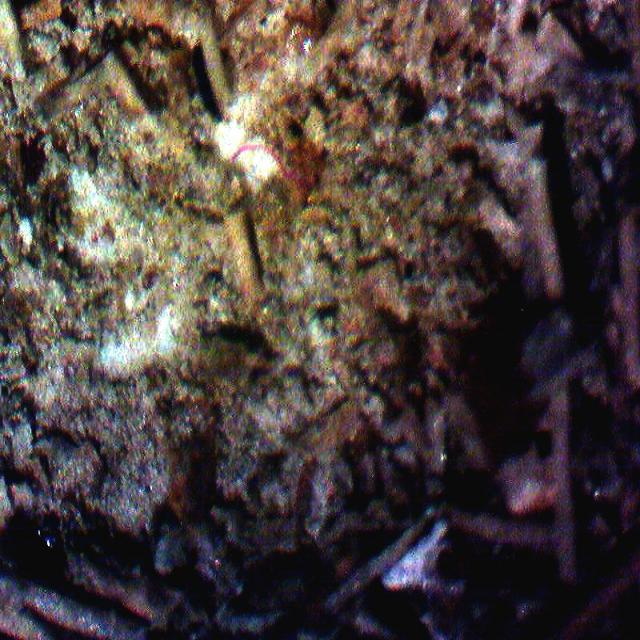microplastic: (232, 143, 302, 195)
